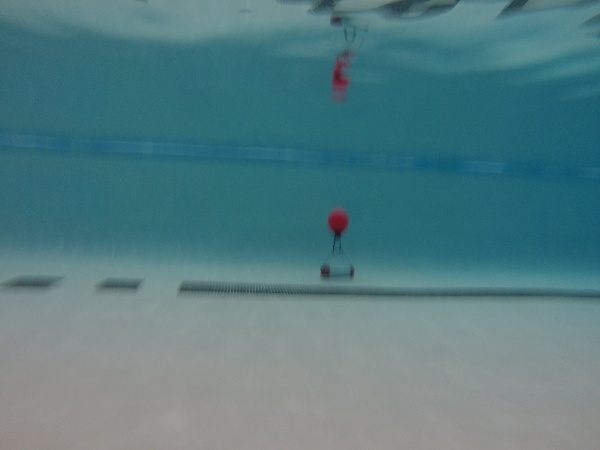buoy_red: (323, 207, 353, 240)
